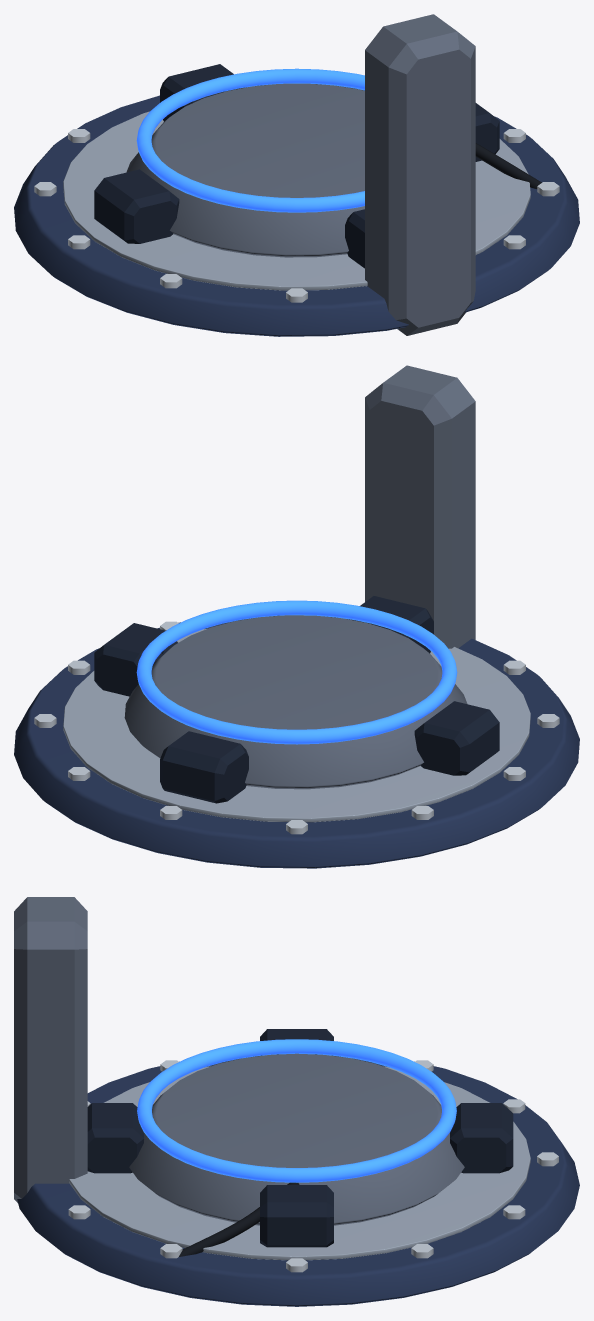
Rendered from socket_wall_base.glb.
3 views of the same model, one above another, from view 1: azimuth 30°, elevation 25°; view 2: azimuth 150°, elevation 25°; view 3: azimuth 270°, elevation 25° (orthographic).
Parts seen in each view (by area): view 1: socket_wall_base_stanchion, socket_wall_base_plate, socket_wall_base_mount, socket_wall_base_inlay, socket_wall_base_mount_ring, socket_wall_base_clamp2, socket_wall_base_bolts, socket_wall_base_clamp3, socket_wall_base_clamp0, socket_wall_base_clamp1, socket_wall_base_feed; view 2: socket_wall_base_mount, socket_wall_base_plate, socket_wall_base_stanchion, socket_wall_base_inlay, socket_wall_base_mount_ring, socket_wall_base_clamp3, socket_wall_base_clamp2, socket_wall_base_clamp0, socket_wall_base_bolts, socket_wall_base_clamp1; view 3: socket_wall_base_mount, socket_wall_base_plate, socket_wall_base_stanchion, socket_wall_base_inlay, socket_wall_base_mount_ring, socket_wall_base_clamp0, socket_wall_base_clamp3, socket_wall_base_clamp1, socket_wall_base_bolts, socket_wall_base_feed, socket_wall_base_clamp2.
Part boxes in pixels (box(x1,y1,x2,y2)): socket_wall_base_stanchion: box(365, 14, 475, 335); socket_wall_base_plate: box(14, 84, 579, 336); socket_wall_base_mount: box(126, 83, 364, 257); socket_wall_base_inlay: box(63, 111, 530, 290); socket_wall_base_mount_ring: box(136, 68, 364, 212); socket_wall_base_clamp2: box(94, 169, 179, 243); socket_wall_base_bolts: box(34, 129, 559, 302); socket_wall_base_clamp3: box(160, 64, 246, 121); socket_wall_base_clamp0: box(475, 103, 499, 161); socket_wall_base_clamp1: box(345, 209, 364, 268); socket_wall_base_feed: box(475, 143, 541, 188); socket_wall_base_mount: box(124, 615, 467, 789); socket_wall_base_plate: box(14, 615, 579, 868); socket_wall_base_stanchion: box(365, 365, 475, 648); socket_wall_base_inlay: box(63, 628, 530, 822); socket_wall_base_mount_ring: box(136, 600, 457, 744); socket_wall_base_clamp3: box(160, 731, 248, 803); socket_wall_base_clamp2: box(414, 701, 499, 775); socket_wall_base_clamp0: box(94, 623, 177, 696); socket_wall_base_bolts: box(34, 615, 559, 834); socket_wall_base_clamp1: box(347, 596, 433, 653); socket_wall_base_mount: box(129, 1053, 464, 1225); socket_wall_base_plate: box(17, 1056, 579, 1306); socket_wall_base_stanchion: box(14, 897, 87, 1202); socket_wall_base_inlay: box(69, 1066, 530, 1260); socket_wall_base_mount_ring: box(137, 1039, 456, 1182); socket_wall_base_clamp0: box(260, 1185, 333, 1247); socket_wall_base_clamp3: box(450, 1103, 513, 1173); socket_wall_base_clamp1: box(87, 1103, 143, 1173); socket_wall_base_bolts: box(68, 1060, 558, 1272); socket_wall_base_feed: box(179, 1182, 299, 1256); socket_wall_base_clamp2: box(260, 1029, 333, 1055).
Size of the model in its own units: 2.3 by 1.31 by 2.3.
